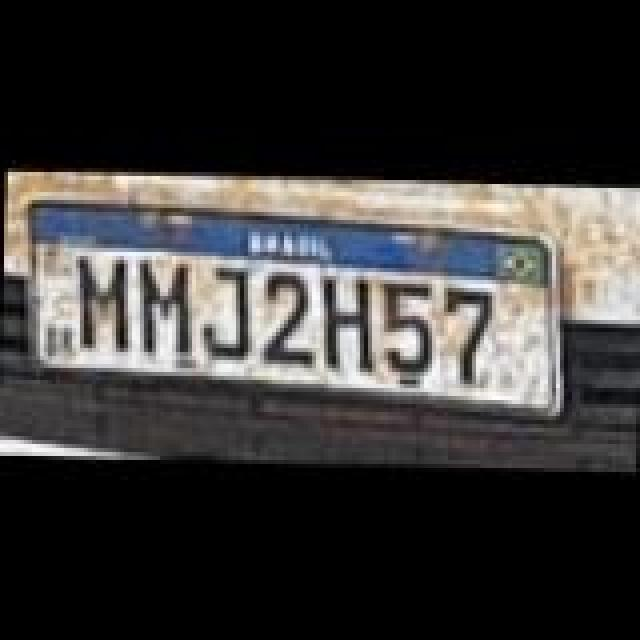2: (256, 268, 312, 364)
5: (382, 280, 442, 380)
7: (442, 284, 502, 388)
H: (316, 272, 380, 372)
J: (198, 262, 258, 358)
M: (72, 250, 136, 350), (134, 256, 194, 356)
